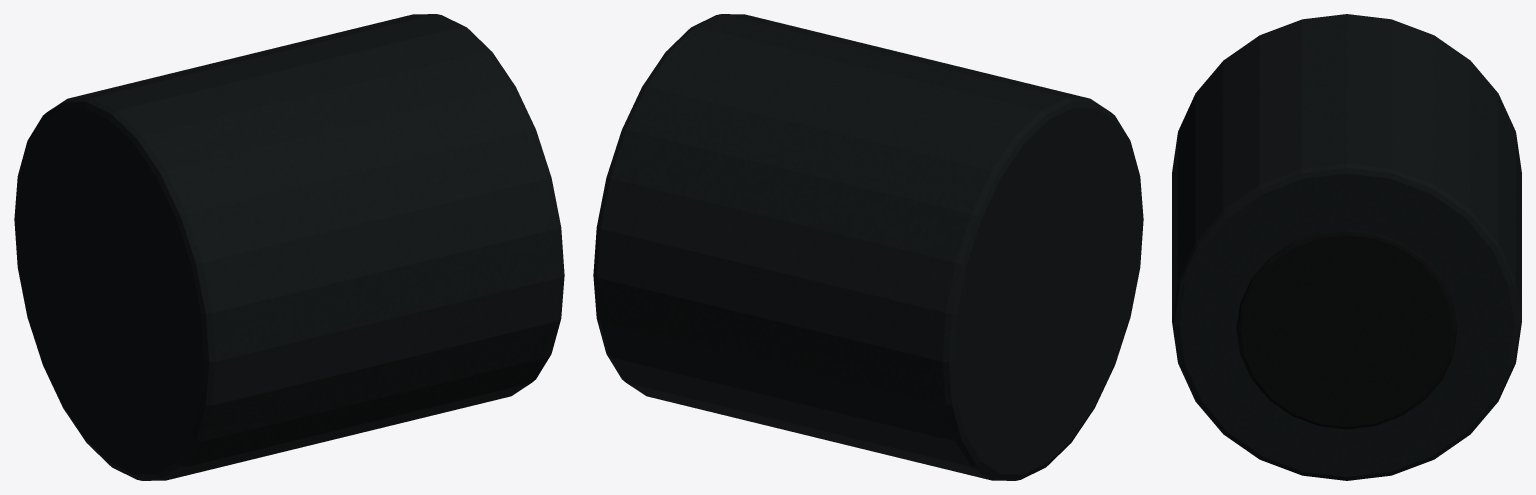
The model's file is wisp02.muzzle.glb.
3 views of the same model, side by side, from view 1: azimuth 30°, elevation 25°; view 2: azimuth 150°, elevation 25°; view 3: azimuth 270°, elevation 25° (orthographic). The views are drawn at different scales.
Parts seen in each view (by area): view 1: VIS_wisp02_muzzle; view 2: VIS_wisp02_muzzle; view 3: VIS_wisp02_muzzle.
Boxes of the visible parts, x1=… form: VIS_wisp02_muzzle: x1=14, y1=14, x2=564, y2=480; VIS_wisp02_muzzle: x1=593, y1=14, x2=1143, y2=480; VIS_wisp02_muzzle: x1=1172, y1=14, x2=1521, y2=480.
Bounding box in the file's own units: 0.0415 × 0.038 × 0.038.
2 materials, 2 textured.
